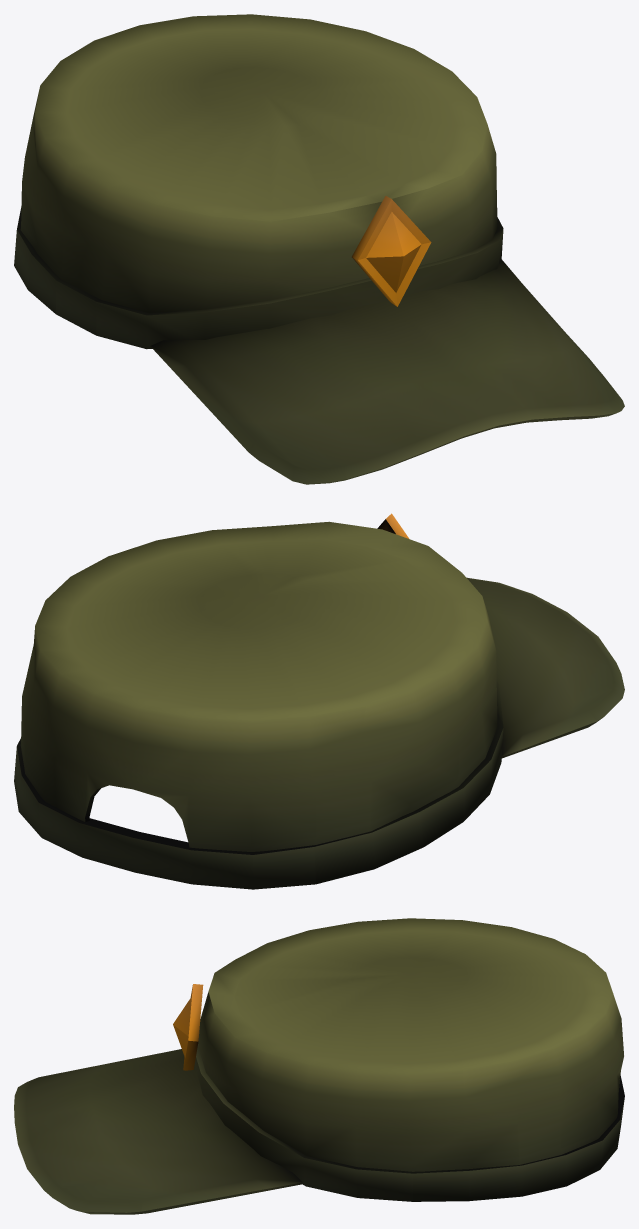
The model's file is Cap_Military_Cap.gltf.
The picture shows the model from 3 angles, top to bottom: view 1: azimuth 30°, elevation 25°; view 2: azimuth 150°, elevation 25°; view 3: azimuth 270°, elevation 25°; orthographic projection. The views are drawn at different scales.
Parts seen in each view (by area): view 1: Cap_Military_Cap; view 2: Cap_Military_Cap; view 3: Cap_Military_Cap.
Part boxes in pixels (x1=…): Cap_Military_Cap: x1=14, y1=14, x2=624, y2=484; Cap_Military_Cap: x1=14, y1=513, x2=624, y2=889; Cap_Military_Cap: x1=14, y1=918, x2=624, y2=1214.
Size of the model in its own units: 0.7738 by 0.3807 by 1.2.
Materials: 2 (2 with a texture image).
